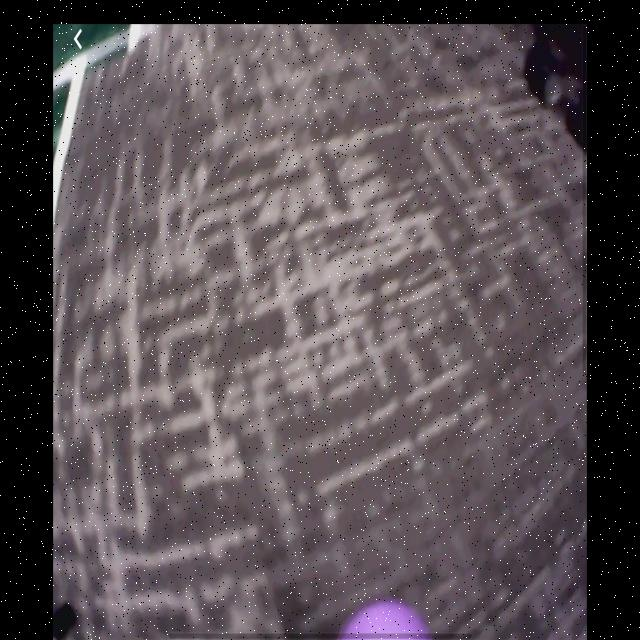ball: (337, 598, 431, 638)
